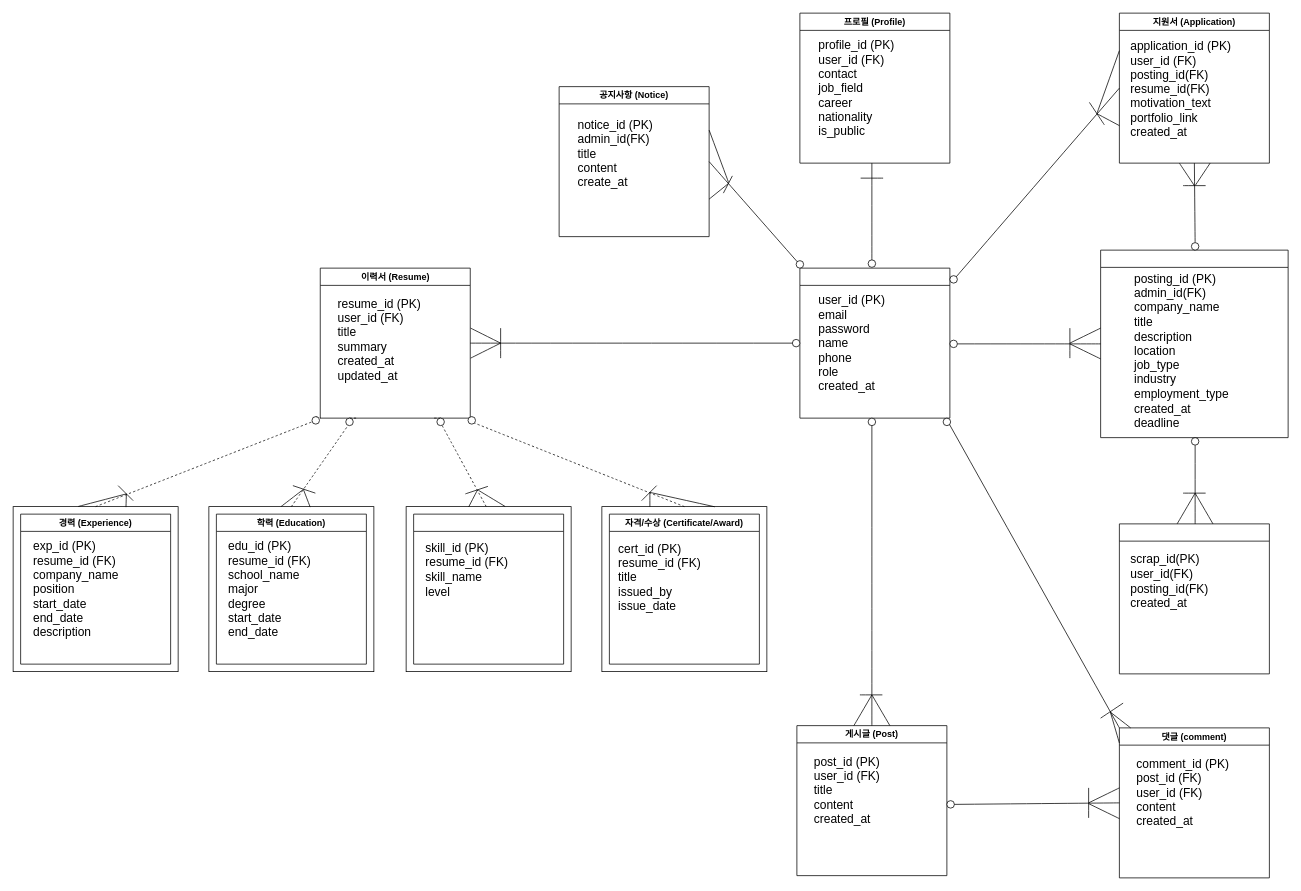
Image size: 1301x891. Some labels were removed from this diagram. The shapes that lost their labels are listed below. From the top down, each one's box as (x1, y1, x2, y2) in pixels, then its label:
(799, 267, 950, 418): 회원 (User)
(1100, 249, 1288, 438): 채용 공고 (Jobposting)
(413, 513, 564, 664): 기술 (Skill)
(1119, 523, 1269, 674): 스크랩 (Scrap)
